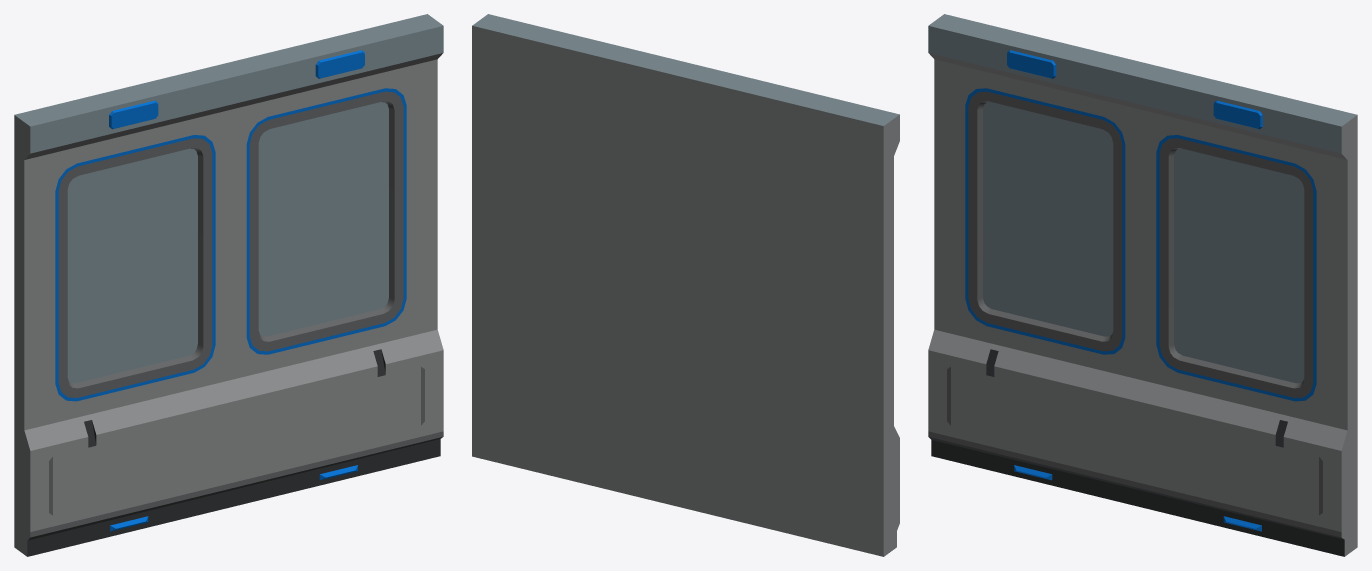
The model's file is Wall_type_B_016.fbx.
3 views of the same model, side by side, from view 1: azimuth 30°, elevation 25°; view 2: azimuth 150°, elevation 25°; view 3: azimuth 330°, elevation 25° (orthographic).
Visible parts, largest first — view 1: Wall_type_B_016; view 2: Wall_type_B_016; view 3: Wall_type_B_016.
Boxes of the visible parts, left/top/right/bottom form: Wall_type_B_016: left=14, top=14, right=443, bottom=556; Wall_type_B_016: left=472, top=14, right=899, bottom=556; Wall_type_B_016: left=928, top=14, right=1357, bottom=556.
Bounding box in the file's own units: 400 × 28.98 × 400.
